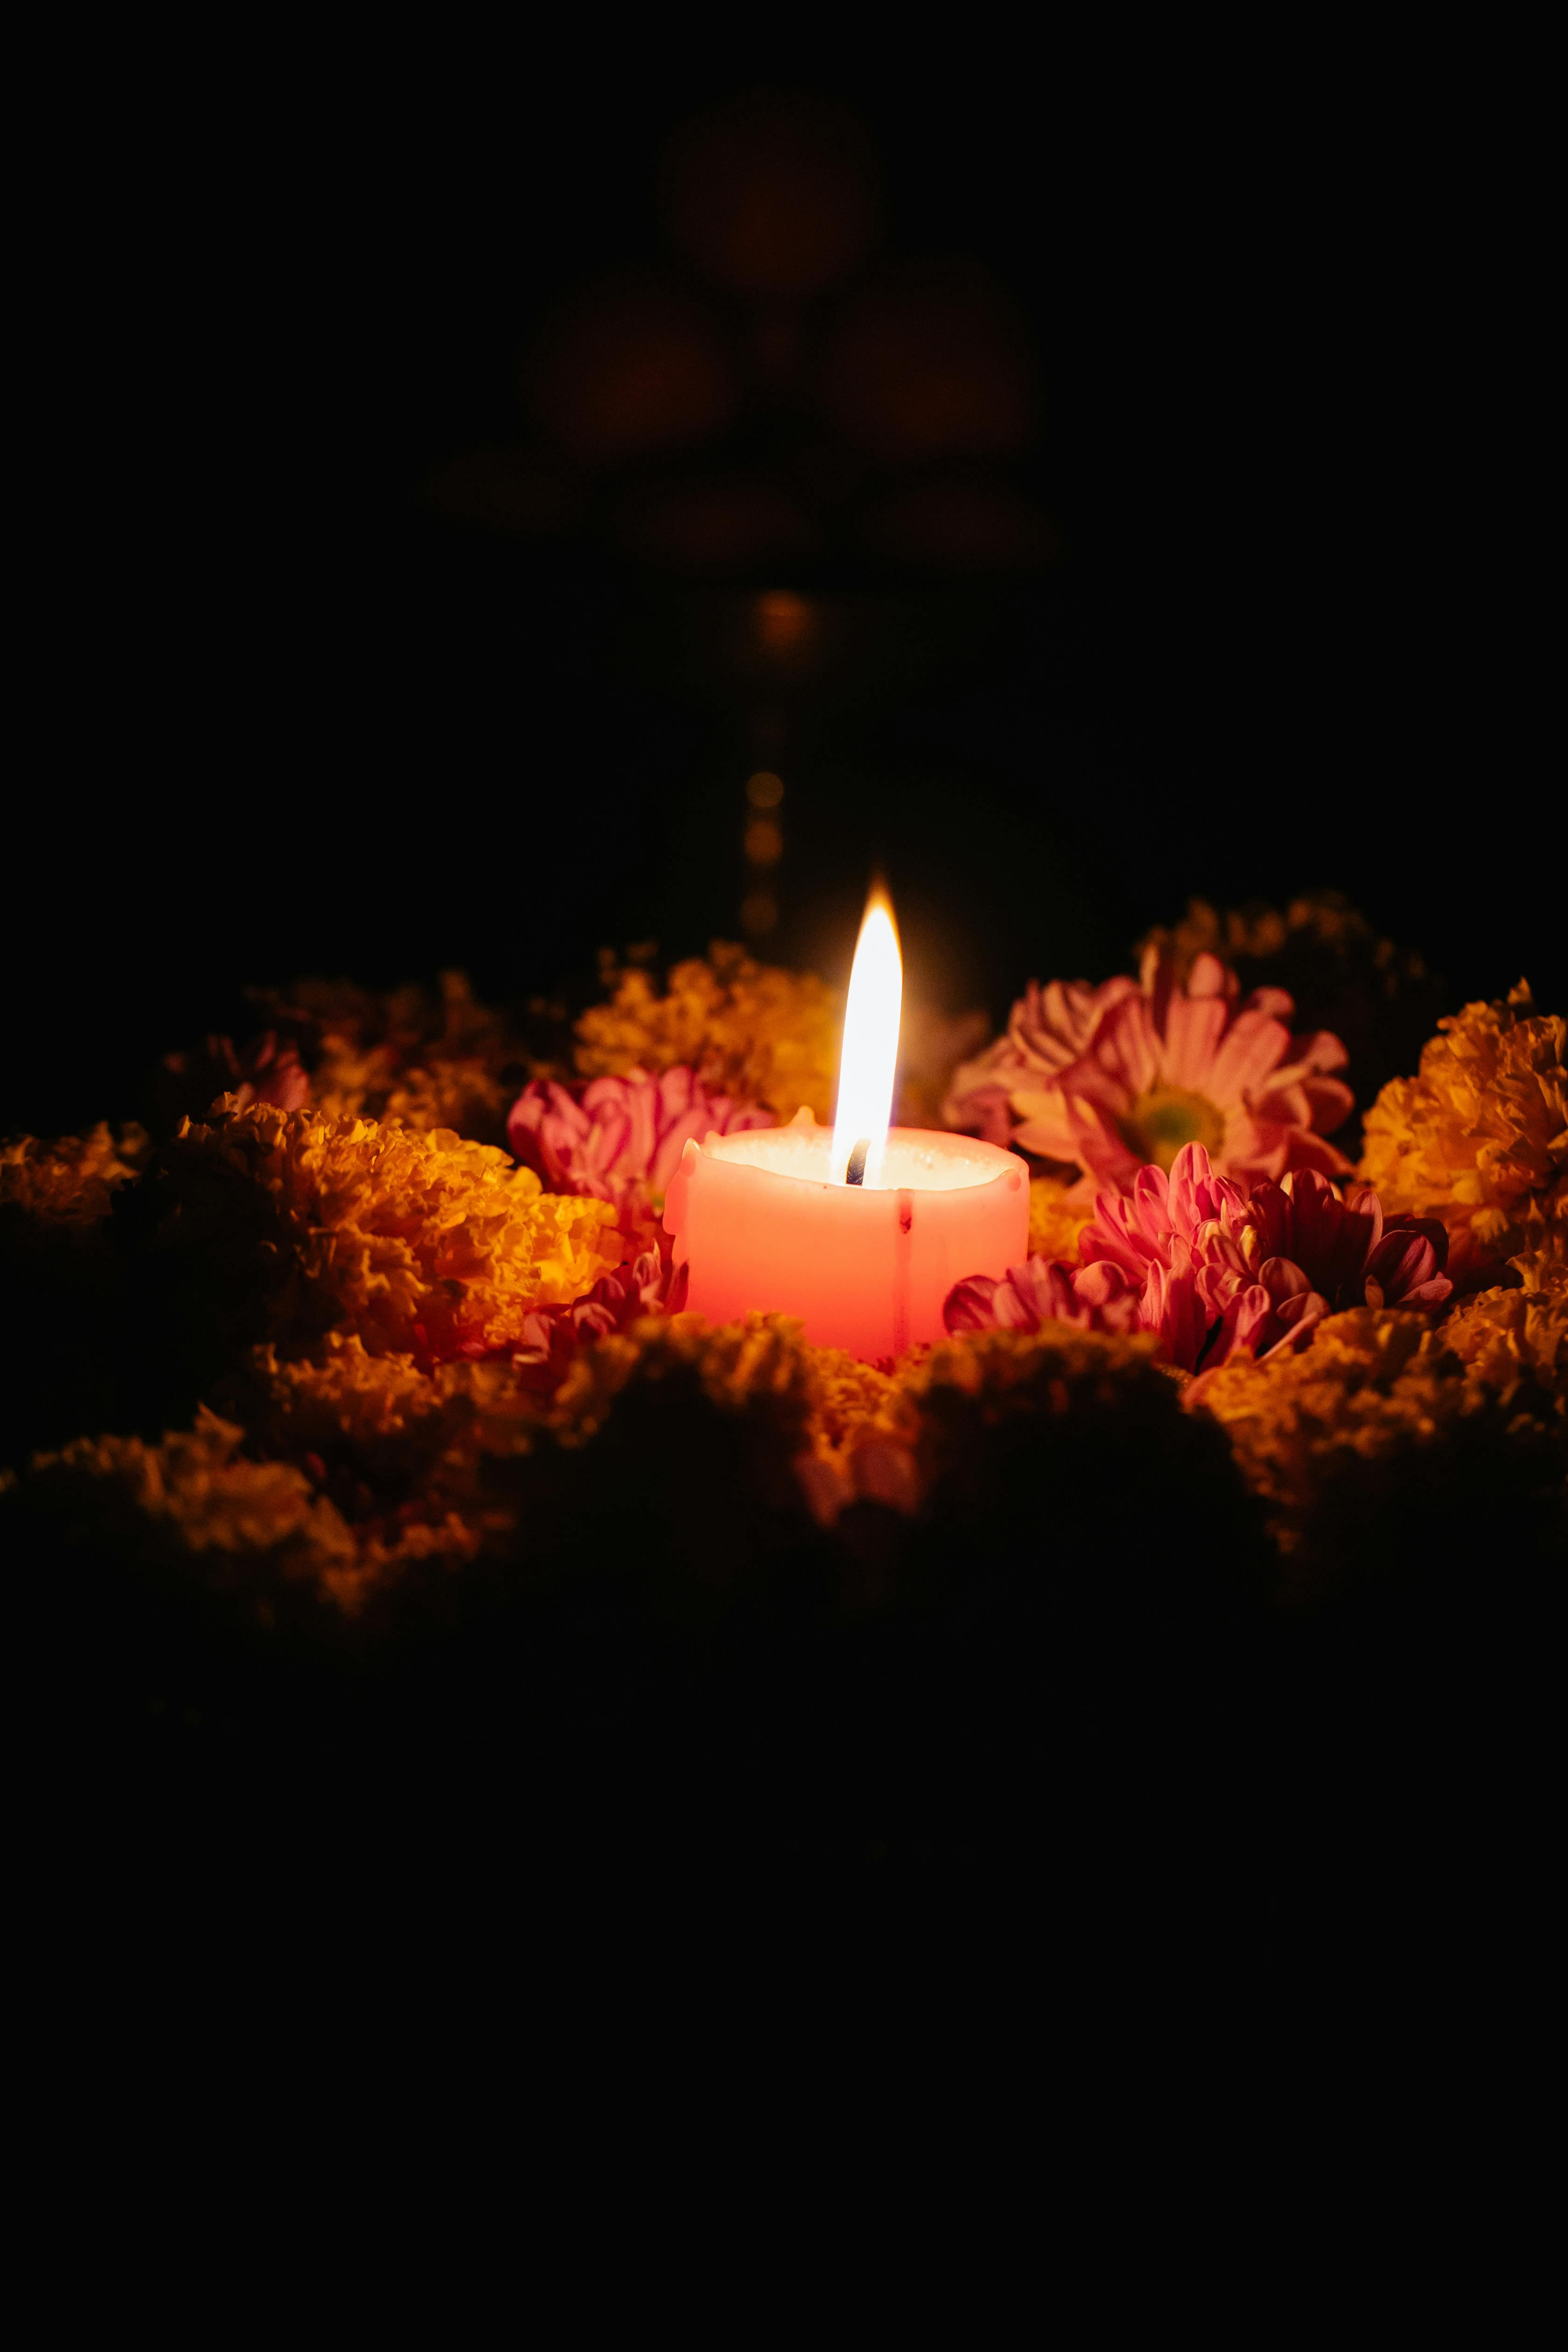Fire: (803, 845, 933, 1195)
